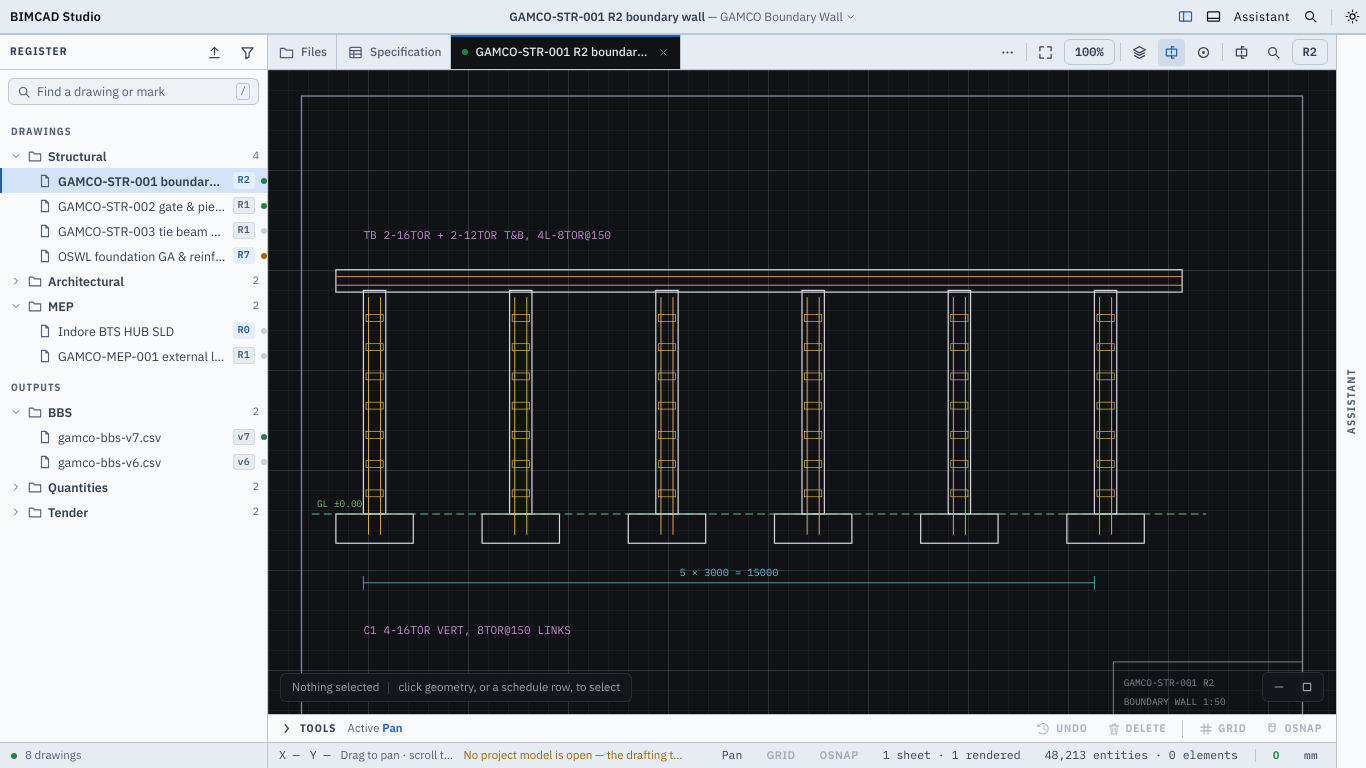
Scenario: the dock tab strip with a drawing open › Ask carries only the two calculation shortcuts — no Library or About chip
Click the button with test id "toggle-assistant": x=1262, y=16 [1234,4,1290,28]
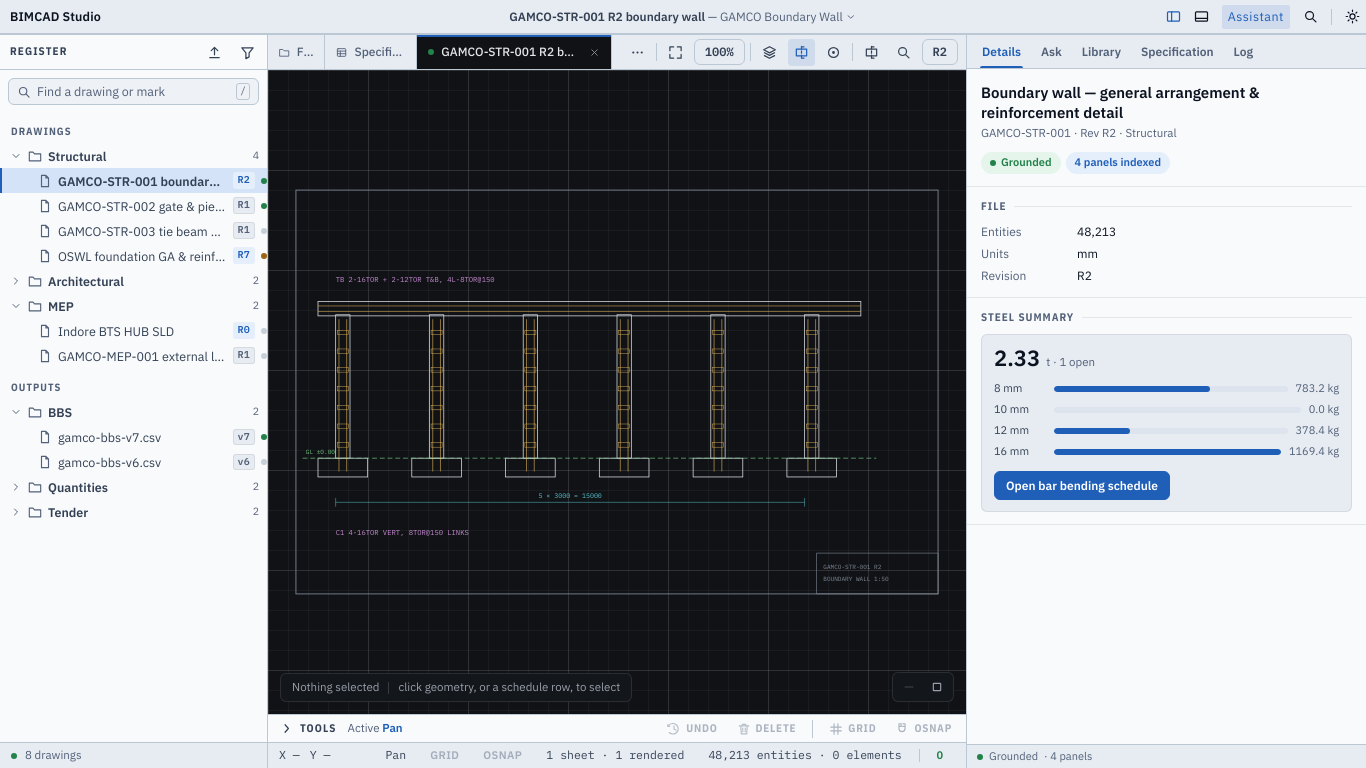
Click the tab "Ask": x=1051, y=52 [1032,35,1071,68]
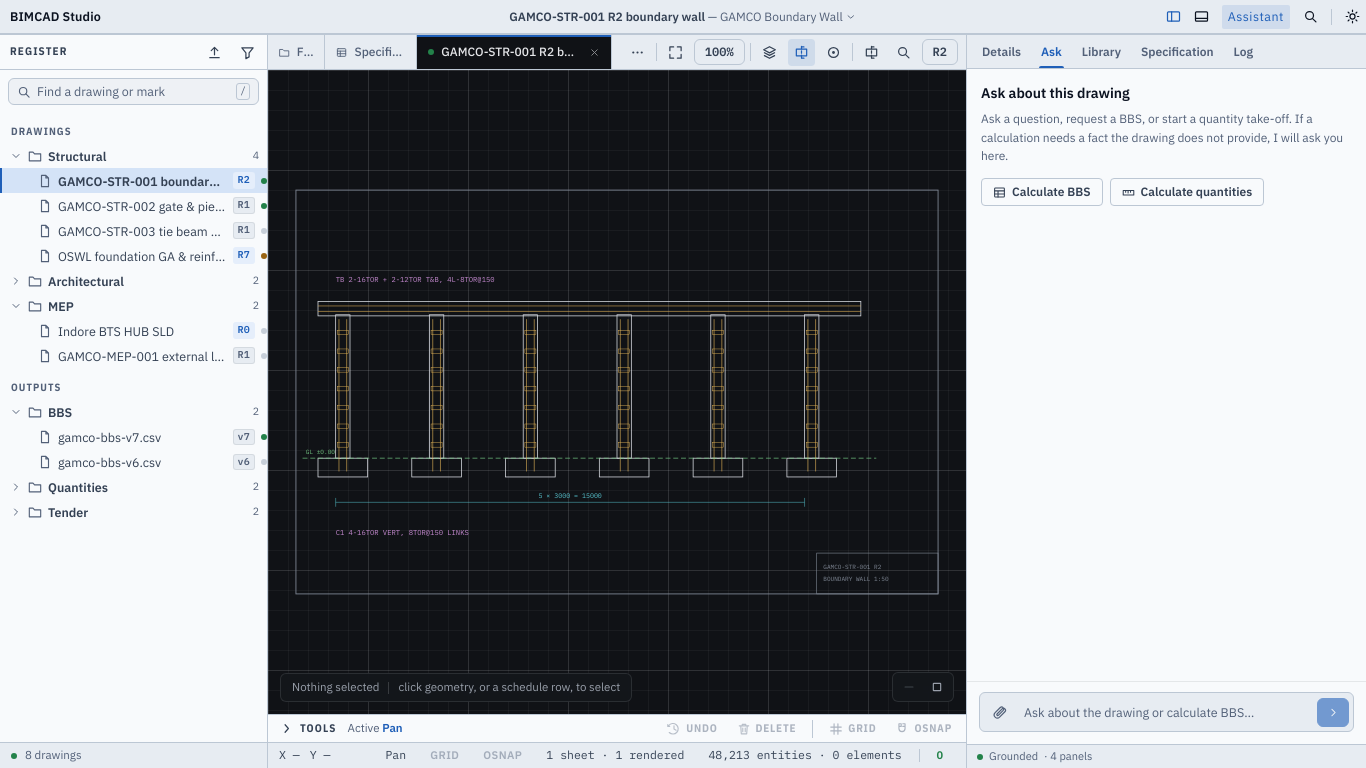
Result: the button "Calculate BBS" is shown at [981,178,1103,206]
Result: the button "Calculate quantities" is shown at [1110,178,1264,206]
